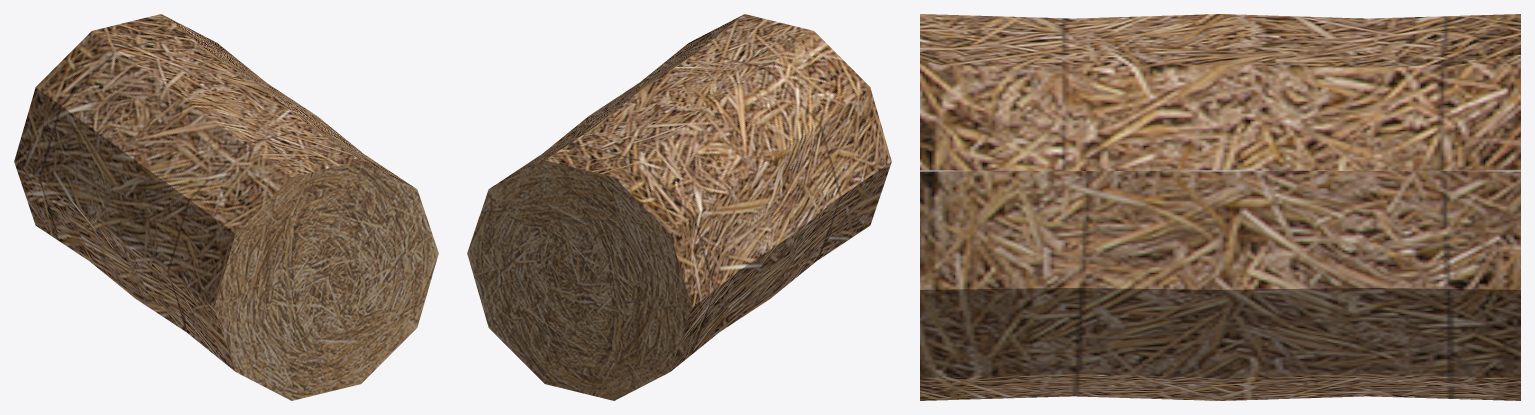
File: hay bale.fbx
The picture shows the model from 3 angles, left to right: view 1: azimuth 30°, elevation 25°; view 2: azimuth 150°, elevation 25°; view 3: azimuth 270°, elevation 25°; orthographic projection. The views are drawn at different scales.
Parts seen in each view (by area): view 1: pCylinder1; view 2: pCylinder1; view 3: pCylinder1.
Boxes of the visible parts, left/top/right/bottom form: pCylinder1: left=14, top=14, right=438, bottom=400; pCylinder1: left=467, top=14, right=891, bottom=400; pCylinder1: left=920, top=14, right=1520, bottom=400.
Bounding box in the file's own units: 18.07 × 17.18 × 27.85.
